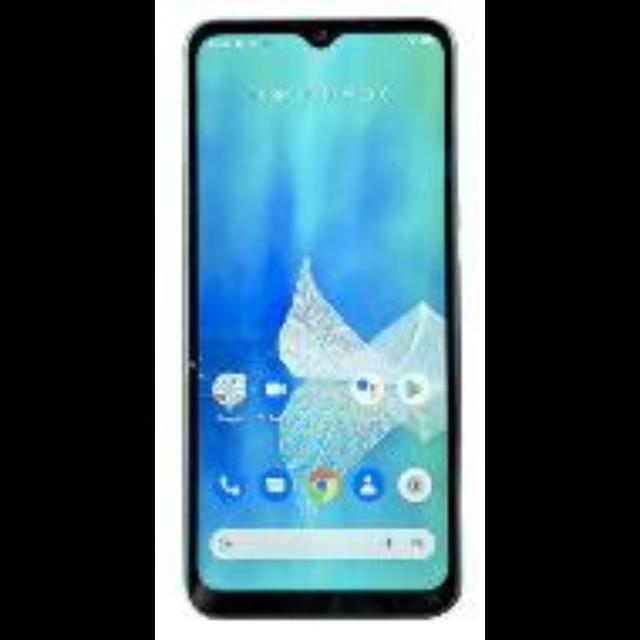Phone: (185, 18, 461, 616)
